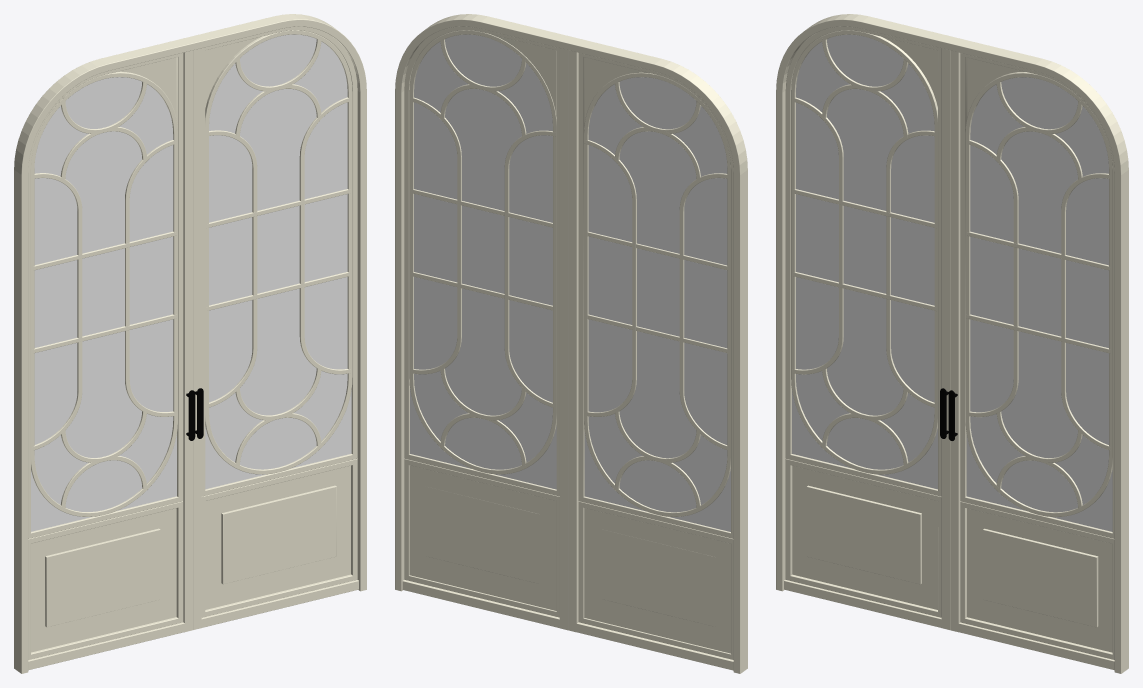
File: archeddoor.glb
3 renders of one model, left to right at view 1: azimuth 30°, elevation 25°; view 2: azimuth 150°, elevation 25°; view 3: azimuth 330°, elevation 25°, orthographic.
Visible parts, largest first — view 1: Entrance door set289_28, Entrance door set289_31, Entrance door set289_38, Entrance door set289_23, Entrance door set289_22, Entrance door set289_21, Entrance door set289_20, Entrance door set289_29, Entrance door set289_32, Entrance door set289_26, Entrance door set289_27, Entrance door set289_37 (+5 smaller); view 2: Entrance door set289_28, Entrance door set289_31, Entrance door set289_38, Entrance door set289_23, Entrance door set289_22, Entrance door set289_32, Entrance door set289_29, Entrance door set289_26, Entrance door set289_21, Entrance door set289_20, Entrance door set289_27, Entrance door set289_37 (+5 smaller); view 3: Entrance door set289_31, Entrance door set289_28, Entrance door set289_38, Entrance door set289_23, Entrance door set289_22, Entrance door set289_21, Entrance door set289_20, Entrance door set289_29, Entrance door set289_32, Entrance door set289_27, Entrance door set289_26, Entrance door set289_35 (+5 smaller).
Part boxes in pixels (left/top/right/bottom): Entrance door set289_28: left=31, top=77, right=176, bottom=531; Entrance door set289_31: left=205, top=34, right=351, bottom=489; Entrance door set289_38: left=14, top=14, right=366, bottom=673; Entrance door set289_23: left=205, top=30, right=352, bottom=474; Entrance door set289_22: left=31, top=71, right=177, bottom=516; Entrance door set289_21: left=221, top=485, right=336, bottom=584; Entrance door set289_20: left=45, top=528, right=160, bottom=627; Entrance door set289_29: left=31, top=508, right=176, bottom=652; Entrance door set289_32: left=205, top=465, right=350, bottom=609; Entrance door set289_26: left=28, top=50, right=193, bottom=670; Entrance door set289_27: left=193, top=48, right=358, bottom=629; Entrance door set289_37: left=201, top=26, right=357, bottom=496; Entrance door set289_28: left=584, top=77, right=730, bottom=531; Entrance door set289_31: left=410, top=34, right=556, bottom=489; Entrance door set289_38: left=395, top=14, right=747, bottom=673; Entrance door set289_23: left=409, top=30, right=556, bottom=474; Entrance door set289_22: left=584, top=72, right=730, bottom=516; Entrance door set289_32: left=409, top=465, right=556, bottom=610; Entrance door set289_29: left=584, top=508, right=730, bottom=653; Entrance door set289_26: left=568, top=50, right=733, bottom=670; Entrance door set289_21: left=425, top=486, right=539, bottom=583; Entrance door set289_20: left=602, top=529, right=715, bottom=626; Entrance door set289_27: left=402, top=48, right=568, bottom=630; Entrance door set289_37: left=404, top=26, right=559, bottom=496; Entrance door set289_31: left=966, top=77, right=1112, bottom=531; Entrance door set289_28: left=792, top=34, right=937, bottom=489; Entrance door set289_38: left=776, top=14, right=1128, bottom=673; Entrance door set289_23: left=965, top=72, right=1112, bottom=517; Entrance door set289_22: left=791, top=30, right=937, bottom=474; Entrance door set289_21: left=983, top=528, right=1098, bottom=627; Entrance door set289_20: left=806, top=485, right=921, bottom=584; Entrance door set289_29: left=792, top=465, right=938, bottom=609; Entrance door set289_32: left=967, top=508, right=1112, bottom=652; Entrance door set289_27: left=950, top=50, right=1114, bottom=670; Entrance door set289_26: left=784, top=48, right=950, bottom=629; Entrance door set289_35: left=785, top=26, right=941, bottom=496.
Size of the model in its own units: 1.68 by 2.73 by 0.0799.
